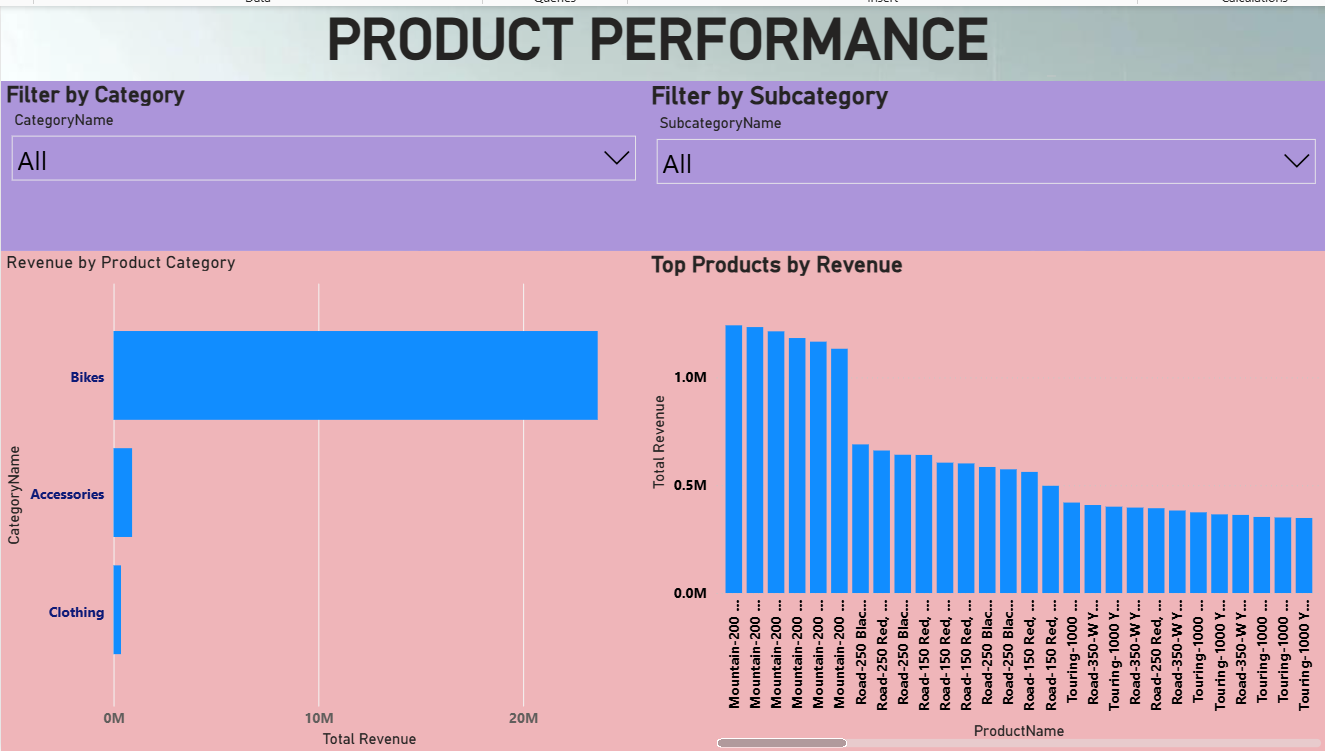

The page's visual inventory and layout, read from the dashboard file:
{"tool":"powerbi","page":{"name":"Product Performance","canvas":[1280,720],"ordinal":4},"visuals":[{"type":"clusteredBarChart","title":"Revenue by Product Category","fields":{"Category":["Product-Categories.CategoryName"],"Y":["total_sales.Total Revenue"]},"box":[0,236.7,622.9,484.1],"z":0},{"type":"clusteredColumnChart","title":"Top Products by Revenue","fields":{"Category":["Products.ProductName"],"Y":["total_sales.Total Revenue"]},"box":[622.9,236.7,656.7,484.1],"z":1000},{"type":"slicer","title":"Filter by Category","fields":{"Values":["Product-Categories.CategoryName"]},"box":[0,73,622.9,163.7],"z":2000},{"type":"slicer","title":"Filter by Subcategory","fields":{"Values":["Product-Subcategories.SubcategoryName"]},"box":[622.9,73,656.7,163.7],"z":3000},{"type":"textbox","title":"PRODUCT PERFORMANCE","box":[308.6,0,714,72.5],"z":4000}]}

Visuals, with their boxes on the page's 1280x720 design canvas (x1, y1, x2, y2). These are canvas units, not pixel positions in the 1325x751 screenshot, which may show the page scaled, cropped or inside an application window:
"Revenue by Product Category" clusteredBarChart: select_region(0, 237, 623, 721)
"Top Products by Revenue" clusteredColumnChart: select_region(623, 237, 1280, 721)
"Filter by Category" slicer: select_region(0, 73, 623, 237)
"Filter by Subcategory" slicer: select_region(623, 73, 1280, 237)
"PRODUCT PERFORMANCE" textbox: select_region(309, 0, 1023, 72)
